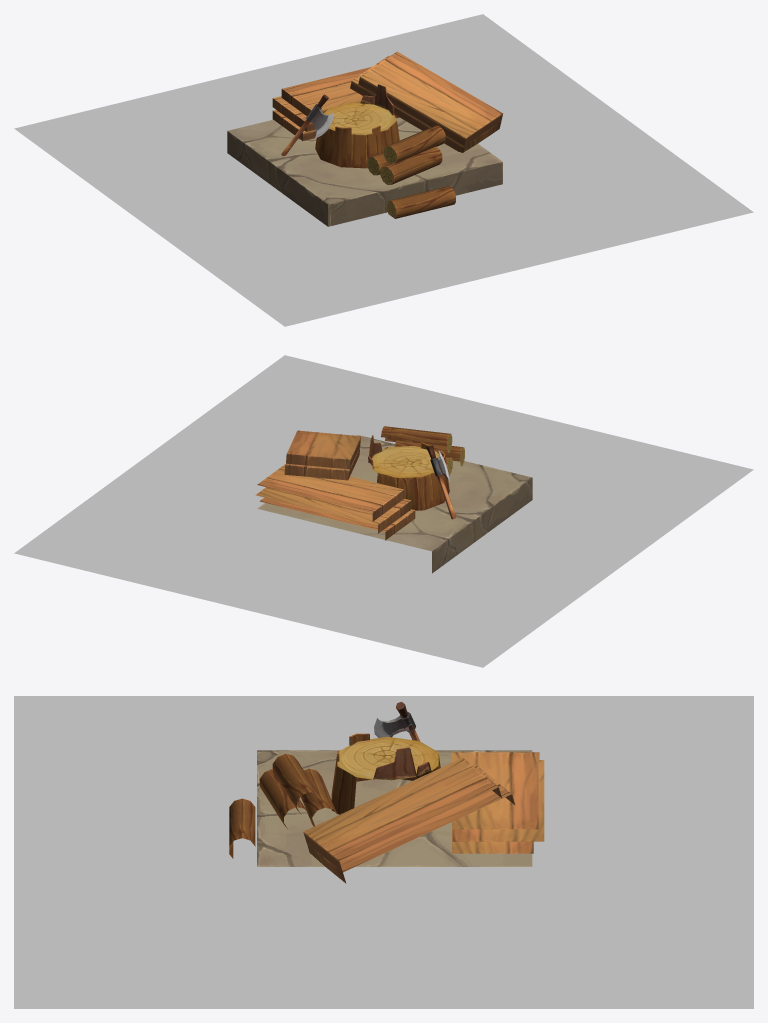
File: The main city_023_LV01.FBX
3 views of the same model, one above another, from view 1: azimuth 30°, elevation 25°; view 2: azimuth 150°, elevation 25°; view 3: azimuth 270°, elevation 25° (orthographic). The views are drawn at different scales.
Visible parts, largest first — view 1: The main city_023_LV01; view 2: The main city_023_LV01; view 3: The main city_023_LV01.
Part boxes in pixels (x1,y1,x2,y2): The main city_023_LV01: (14,14,753,326); The main city_023_LV01: (14,355,753,667); The main city_023_LV01: (14,696,753,1008).
Bounding box in the file's own units: 59.9 × 10.26 × 59.9.
